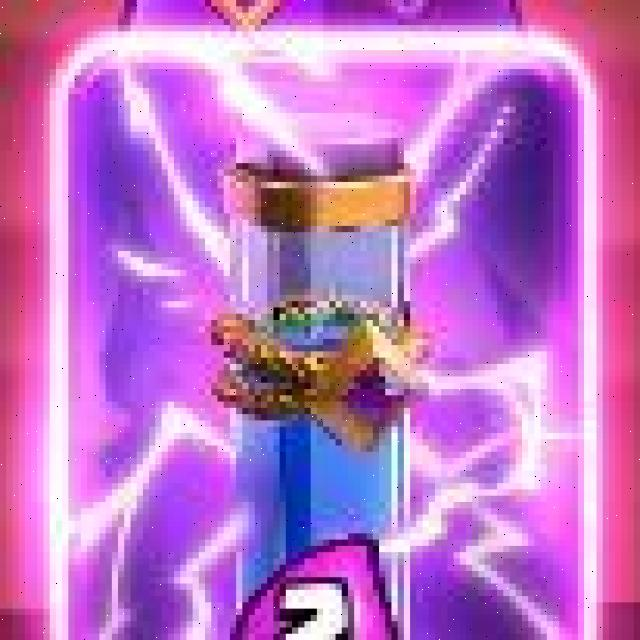Evolved_Zap: (49, 27, 604, 640)
